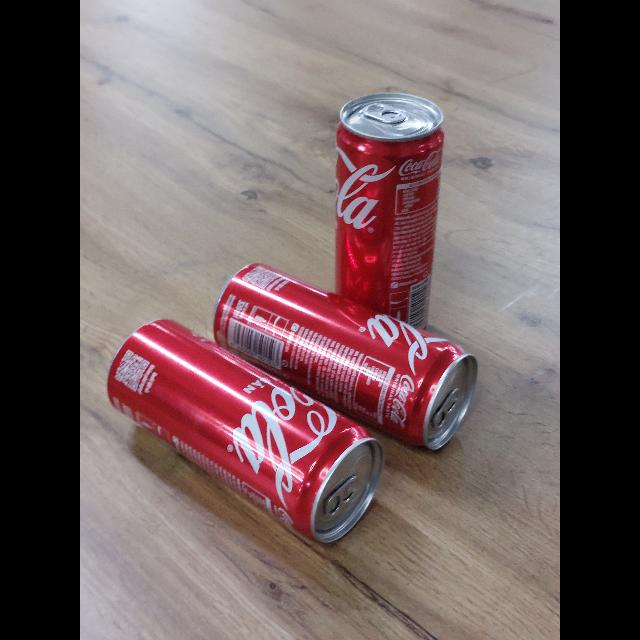coca_cola: (106, 319, 385, 548), (213, 264, 479, 454), (333, 91, 444, 328)
